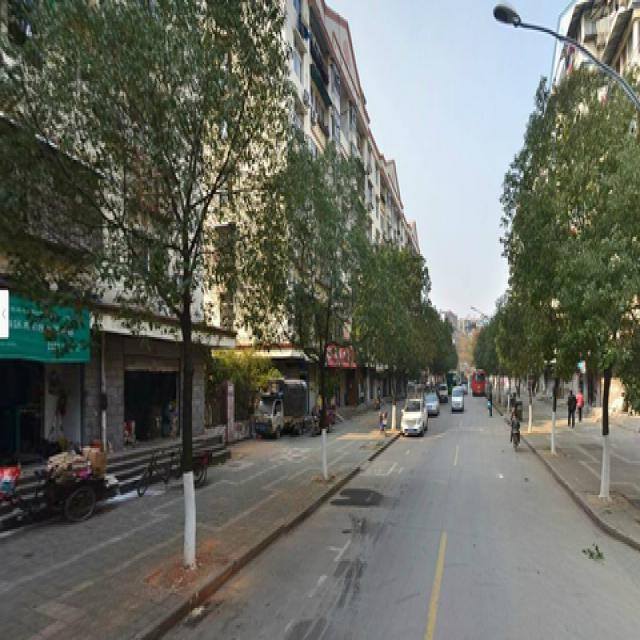cinn: (40, 9, 252, 529), (545, 98, 635, 495), (273, 150, 359, 487)
